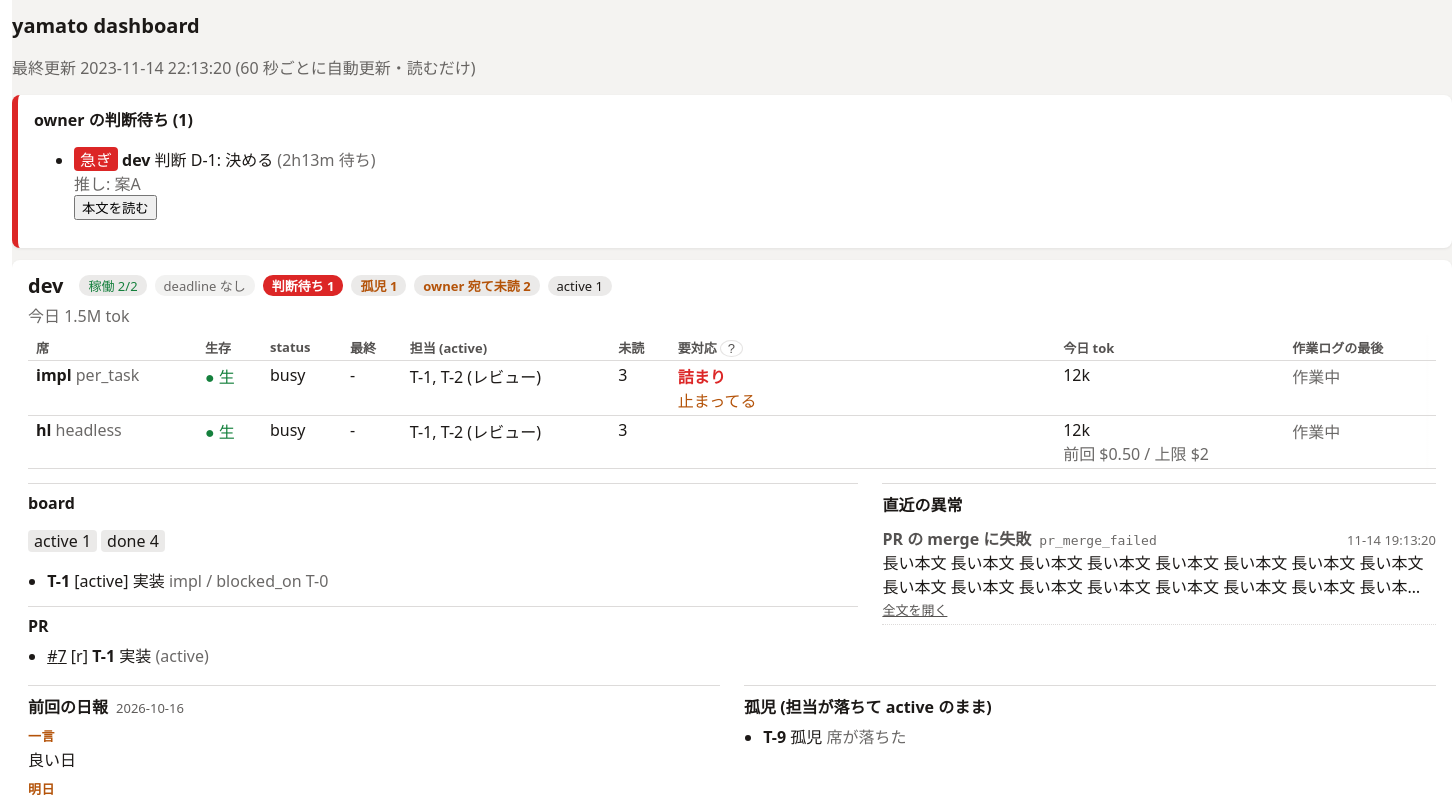
Test: OverviewPage › 1 時間より前の異常は赤を弱め、長い本文は開いて全文を読める
Click the button "全文を開く": (915, 610) [882,600,947,619]
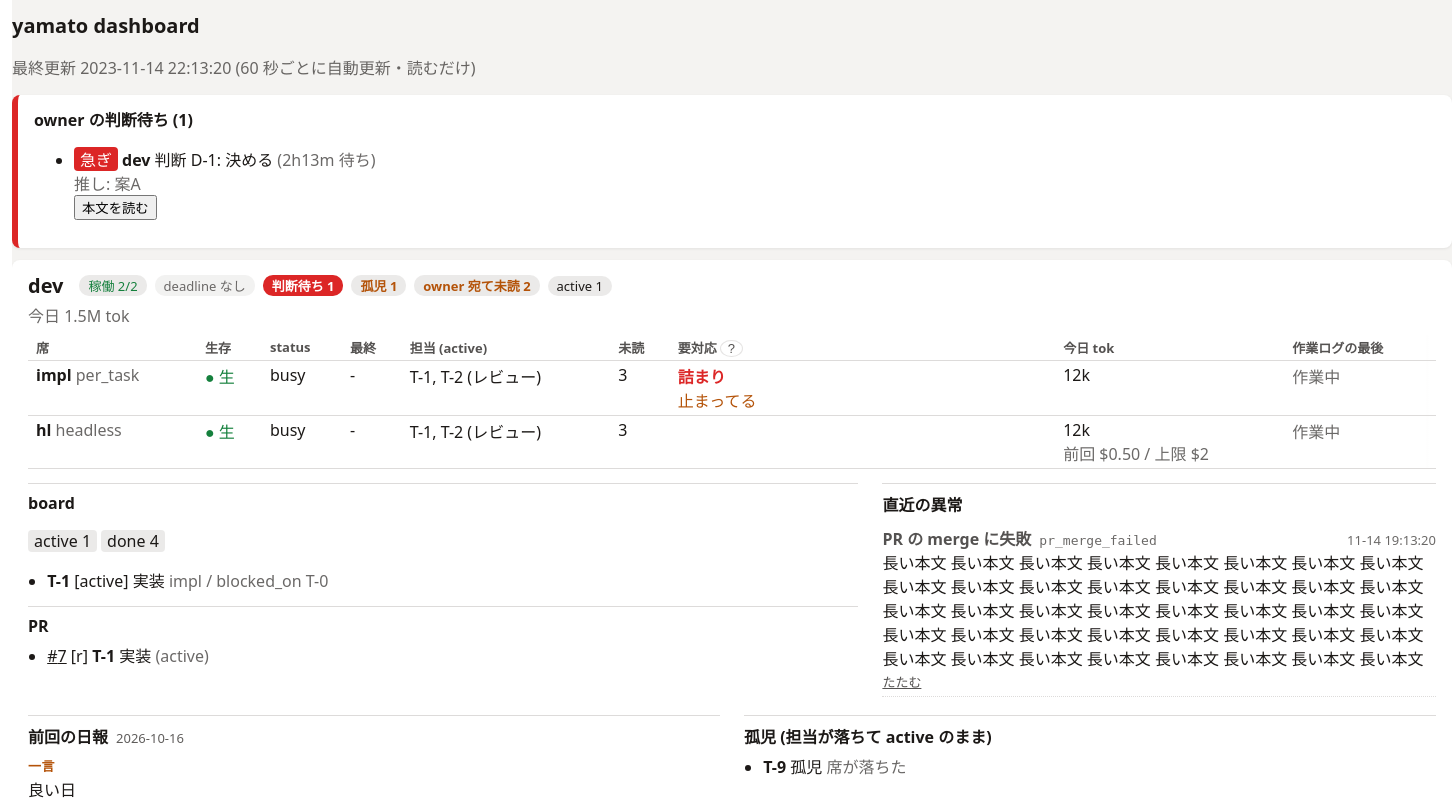
Check: the button "たたむ" is expanded, box [882,672,921,691]
